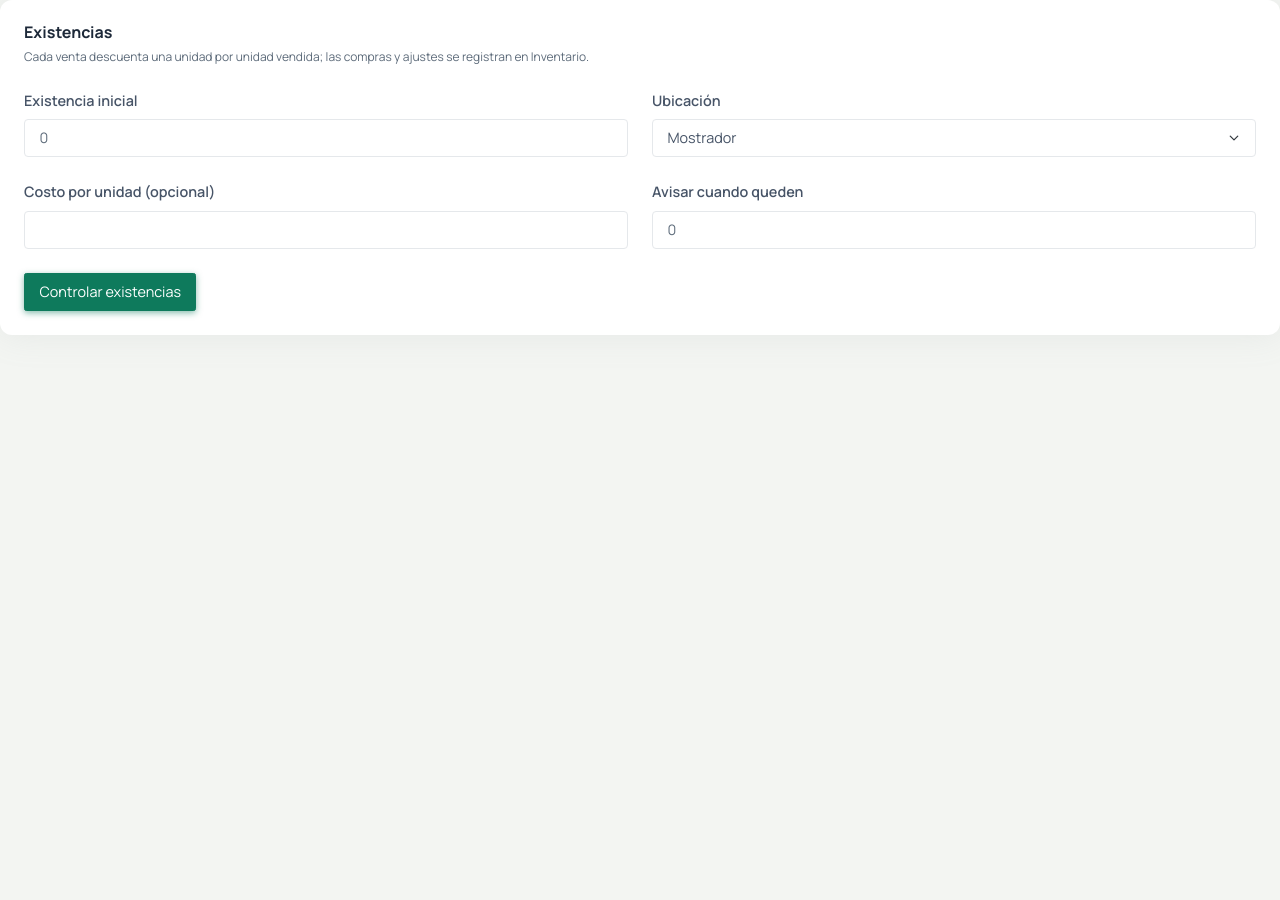
Test: ProductStockCard › starts controlling the stock with an opening balance in the default location
Expected: the number field labelled "Avisar cuando queden" is not empty, [652,211,1256,249]
Step 1. Type "10" into the field labelled "Existencia inicial" → (326, 138), box [24,119,628,157]
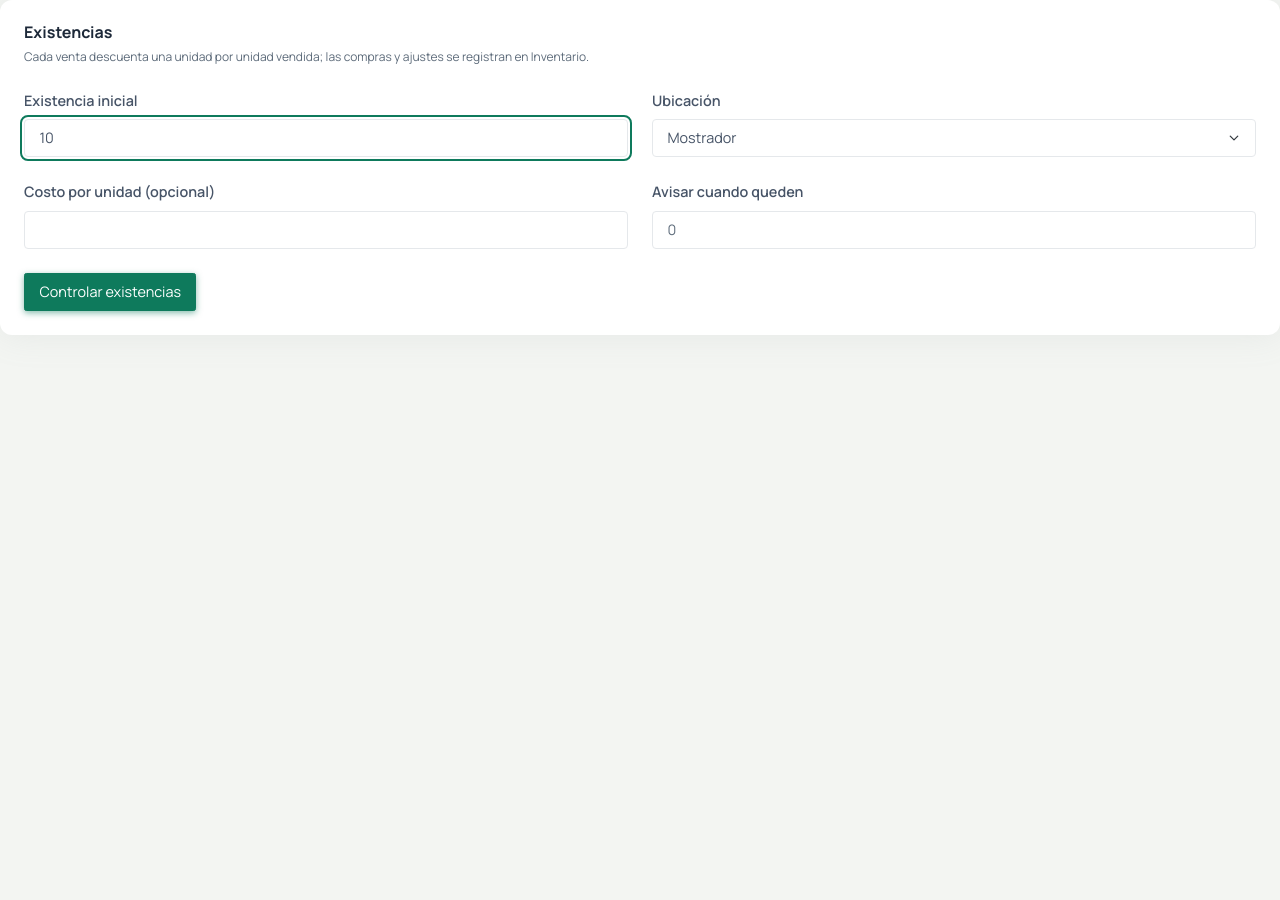
Step 2. Type "3" into the number field labelled "Avisar cuando queden" → (954, 230), box [652,211,1256,249]
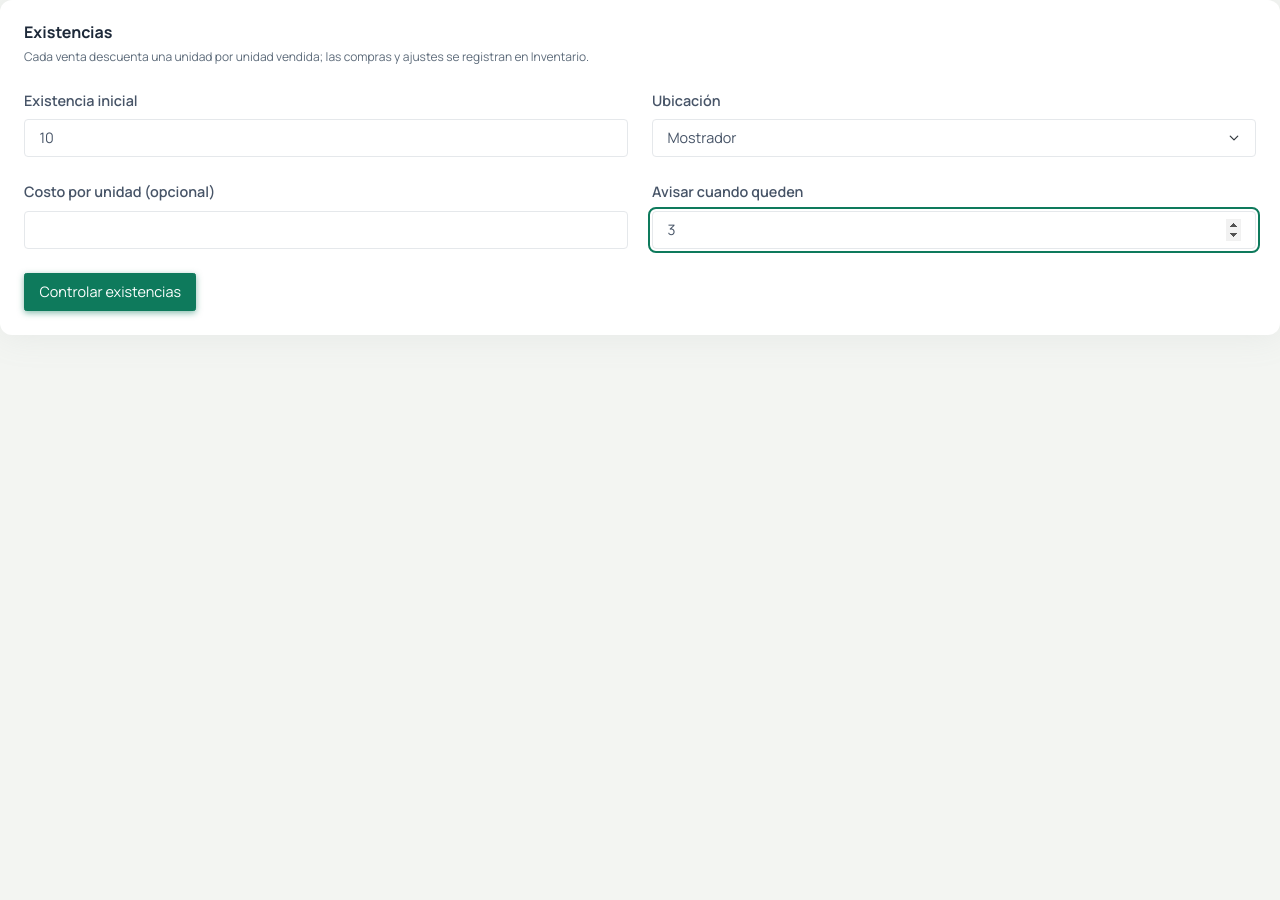
Step 3. Click the button "Controlar existencias" → (110, 292), box [24,273,196,311]
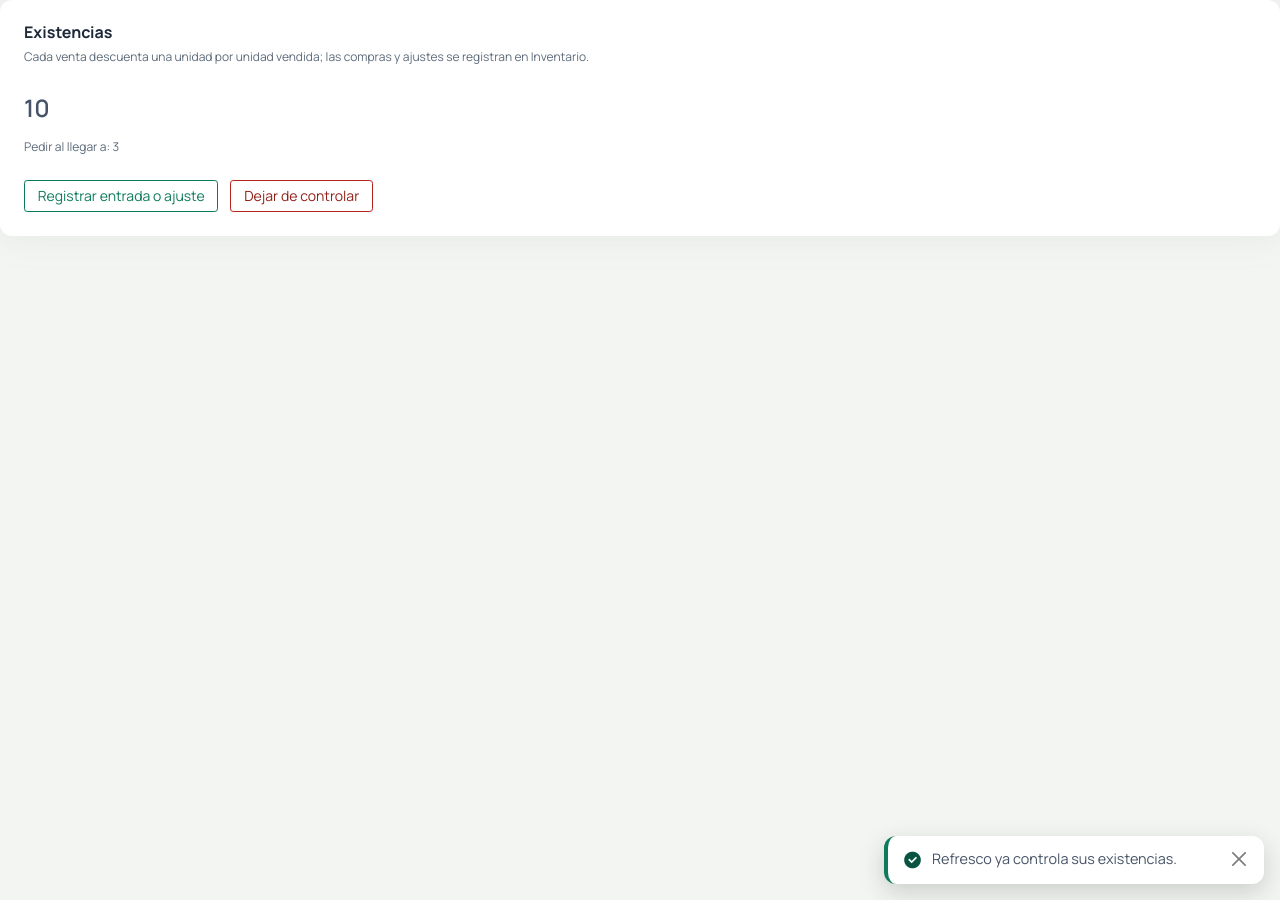
Result: the text "Pedir al llegar a: 3" is shown at [24,138,119,155]
